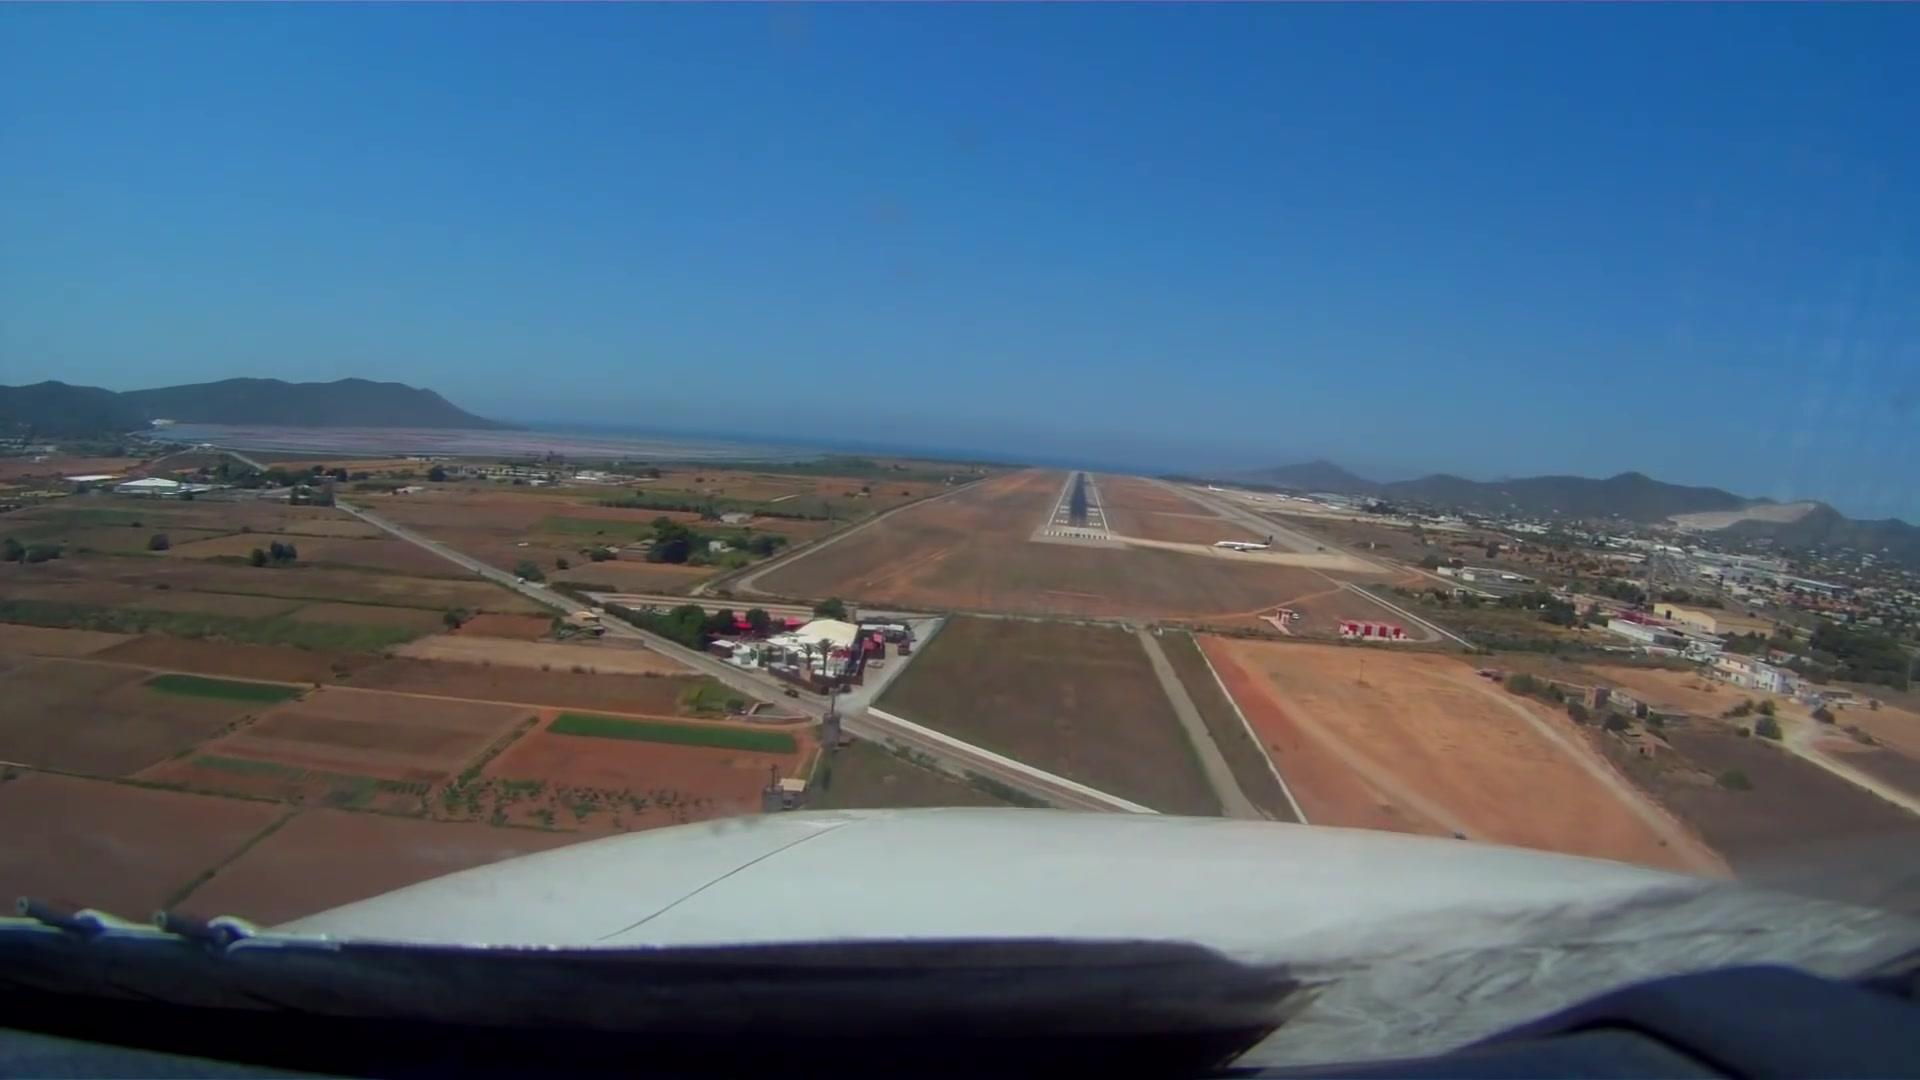entrance: (1044, 529, 1110, 541)
runway: (1044, 467, 1116, 545)
